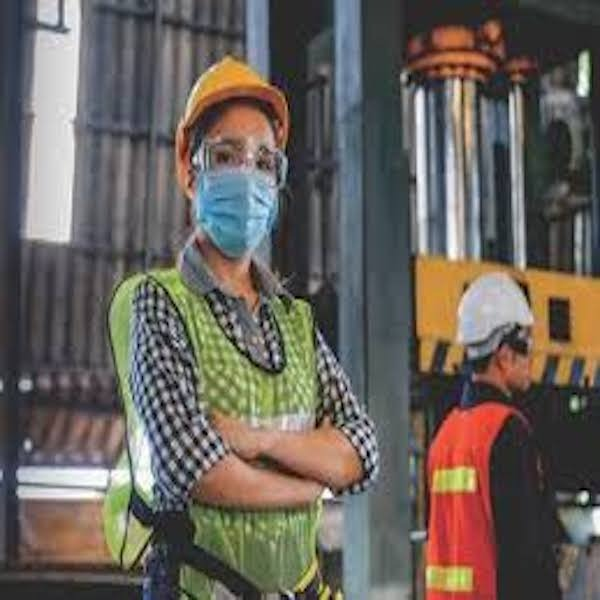helmet: (448, 271, 546, 354), (188, 60, 293, 120)
vest: (158, 281, 321, 600), (421, 402, 530, 600)
